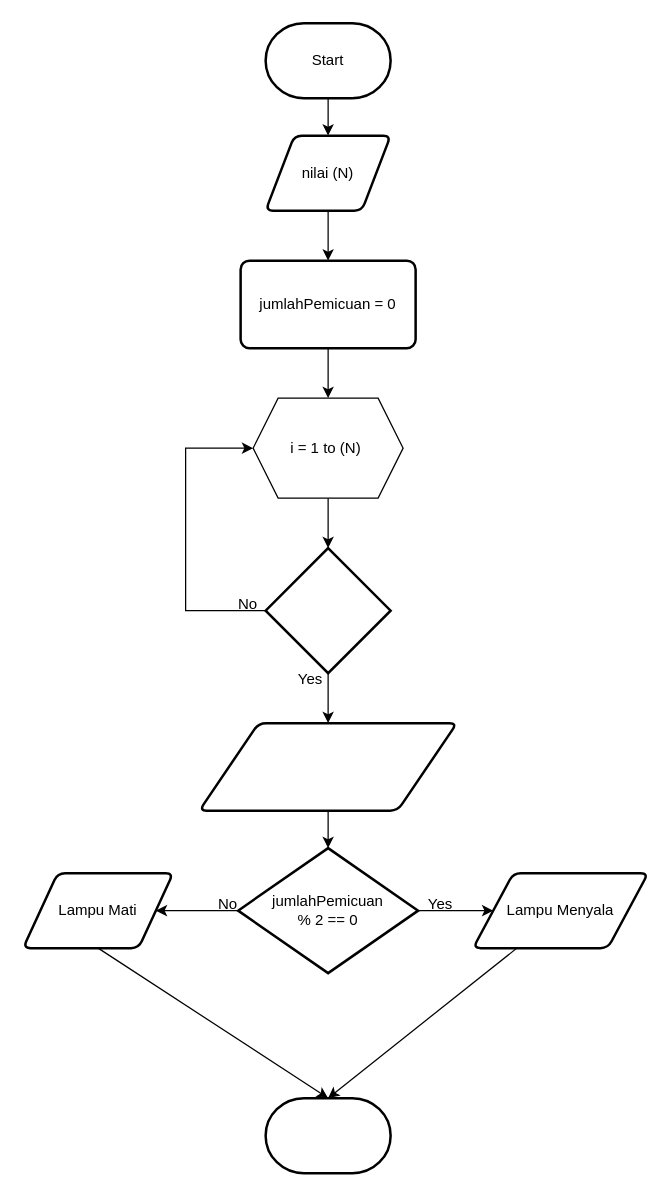
The diagram is 670 pixels wide and 1195 high, and some of its shapes have lost their labels. The centre of each missing label's shape, as x and y in pixels:
"(N) % i == 0" goes at pixel 327 610.
"End" goes at pixel 327 1135.
"jumlahPemicuan++" goes at pixel 328 766.
